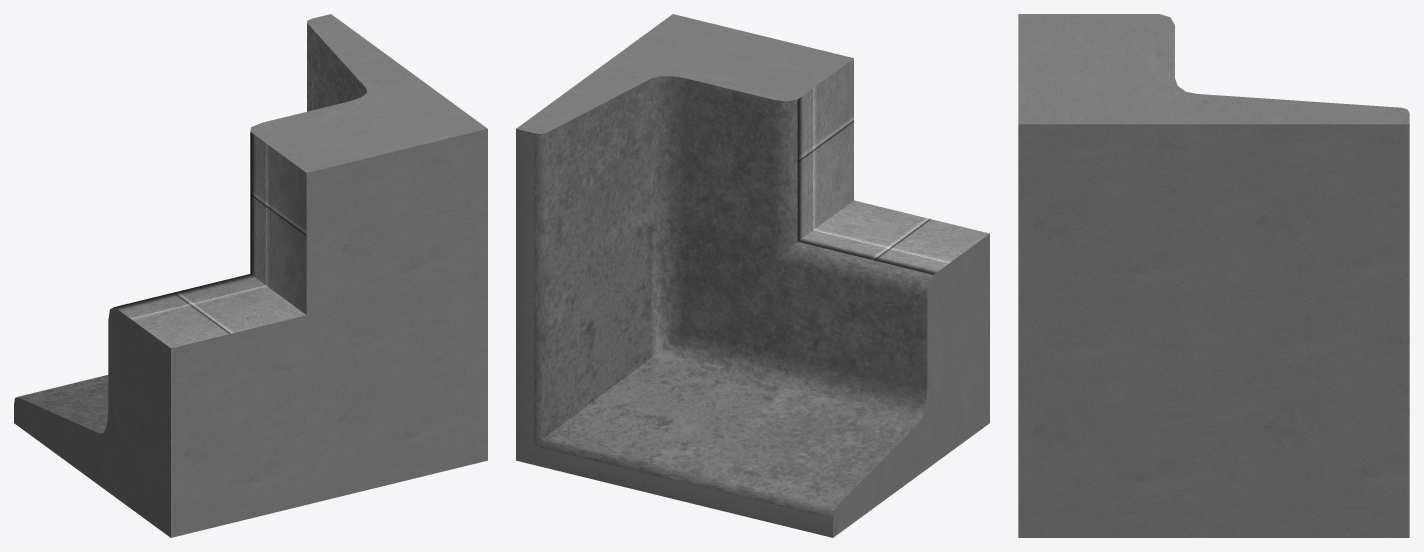
Rendered from public_seat_B_corner.fbx.
The picture shows the model from 3 angles, left to right: view 1: azimuth 30°, elevation 25°; view 2: azimuth 150°, elevation 25°; view 3: azimuth 270°, elevation 25°; orthographic projection. The views are drawn at different scales.
Parts seen in each view (by area): view 1: public_seat_B_corner; view 2: public_seat_B_corner; view 3: public_seat_B_corner.
Boxes of the visible parts, x1,y1,x2,y2 form: public_seat_B_corner: (14, 14, 487, 537); public_seat_B_corner: (516, 14, 989, 537); public_seat_B_corner: (1018, 14, 1409, 537).
Size of the model in its own units: 0.7 by 0.7 by 0.6.
